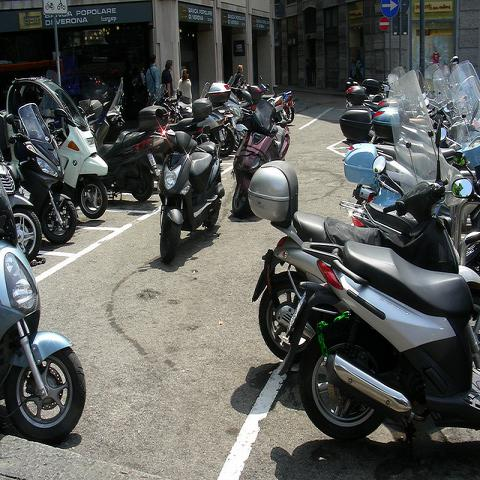motorcycle: (249, 111, 479, 357), (276, 238, 479, 454), (1, 178, 89, 437), (0, 70, 112, 222), (7, 103, 76, 244), (79, 81, 158, 204), (158, 132, 225, 264), (232, 90, 292, 216), (134, 82, 204, 179), (0, 147, 44, 266), (241, 75, 386, 108), (164, 89, 234, 156), (339, 106, 401, 146), (225, 88, 248, 150)
